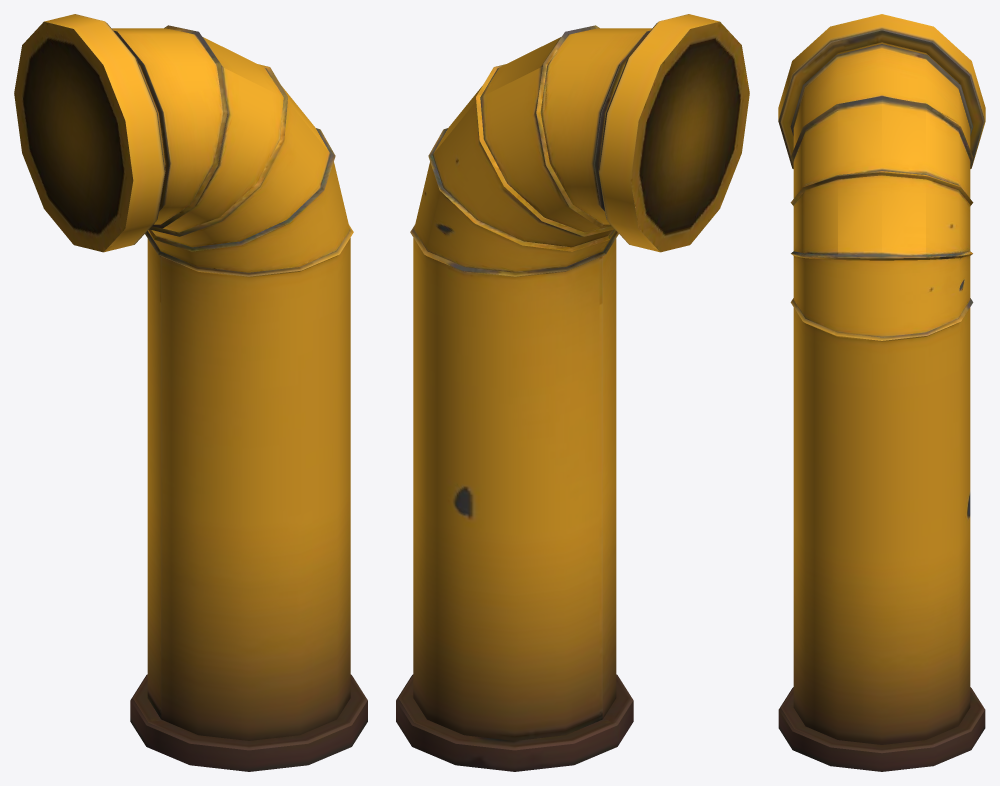
3 views of the same model, side by side, from view 1: azimuth 30°, elevation 25°; view 2: azimuth 150°, elevation 25°; view 3: azimuth 270°, elevation 25° (orthographic). The views are drawn at different scales.
Visible parts, largest first — view 1: body0_model0_lod0_mesh0; view 2: body0_model0_lod0_mesh0; view 3: body0_model0_lod0_mesh0.
Boxes of the visible parts, left/top/right/bottom form: body0_model0_lod0_mesh0: left=14, top=14, right=367, bottom=771; body0_model0_lod0_mesh0: left=396, top=14, right=749, bottom=771; body0_model0_lod0_mesh0: left=778, top=14, right=985, bottom=771.
Size of the model in its own units: 101 by 256 by 75.19.
1 material, 1 textured.
